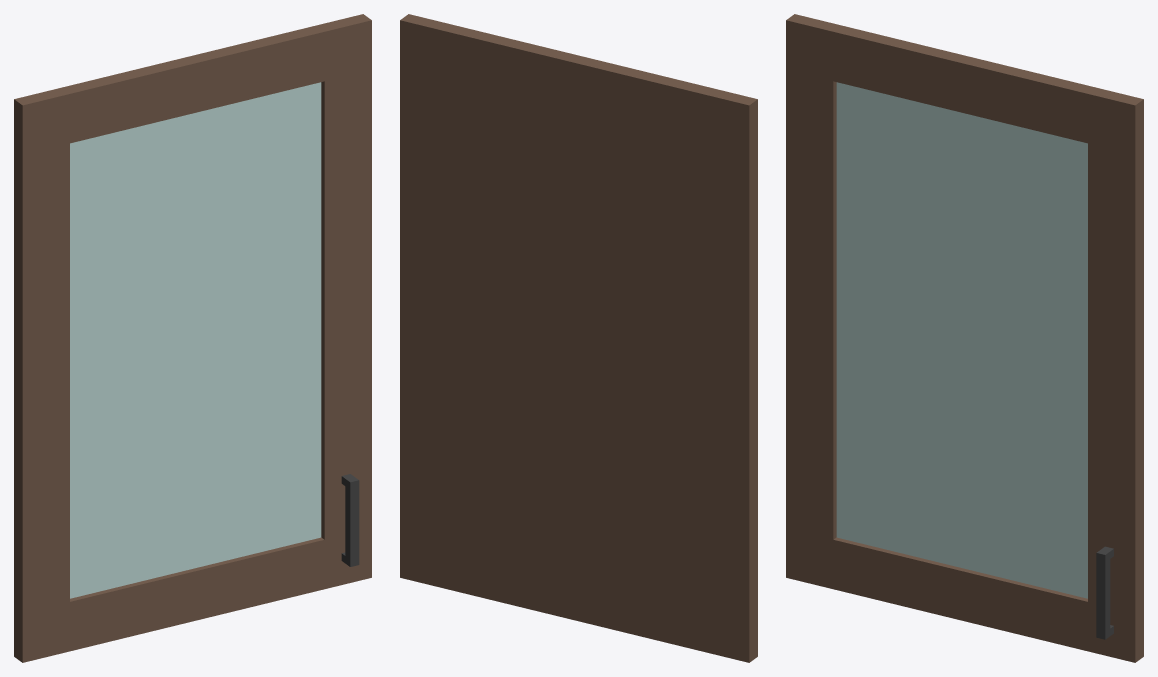
The model's file is BathroomDoor_C2_05.fbx.
The picture shows the model from 3 angles, left to right: view 1: azimuth 30°, elevation 25°; view 2: azimuth 150°, elevation 25°; view 3: azimuth 330°, elevation 25°; orthographic projection.
Visible parts, largest first — view 1: BathroomDoor_C2_05; view 2: BathroomDoor_C2_05; view 3: BathroomDoor_C2_05.
Boxes of the visible parts, <box> form: BathroomDoor_C2_05: <box>14,14,371,662</box>; BathroomDoor_C2_05: <box>400,14,757,662</box>; BathroomDoor_C2_05: <box>786,14,1143,662</box>.
Size of the model in its own units: 59 by 90 by 5.03.
